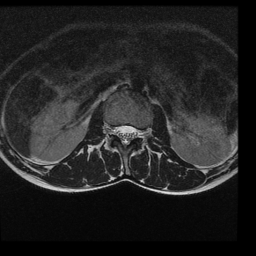CCS_normal: (121, 118, 129, 153)
LFS_normal: (137, 118, 144, 144)
LLS_normal: (128, 118, 137, 146)
RFS_normal: (108, 116, 114, 143)
RLS_normal: (114, 118, 121, 144)
